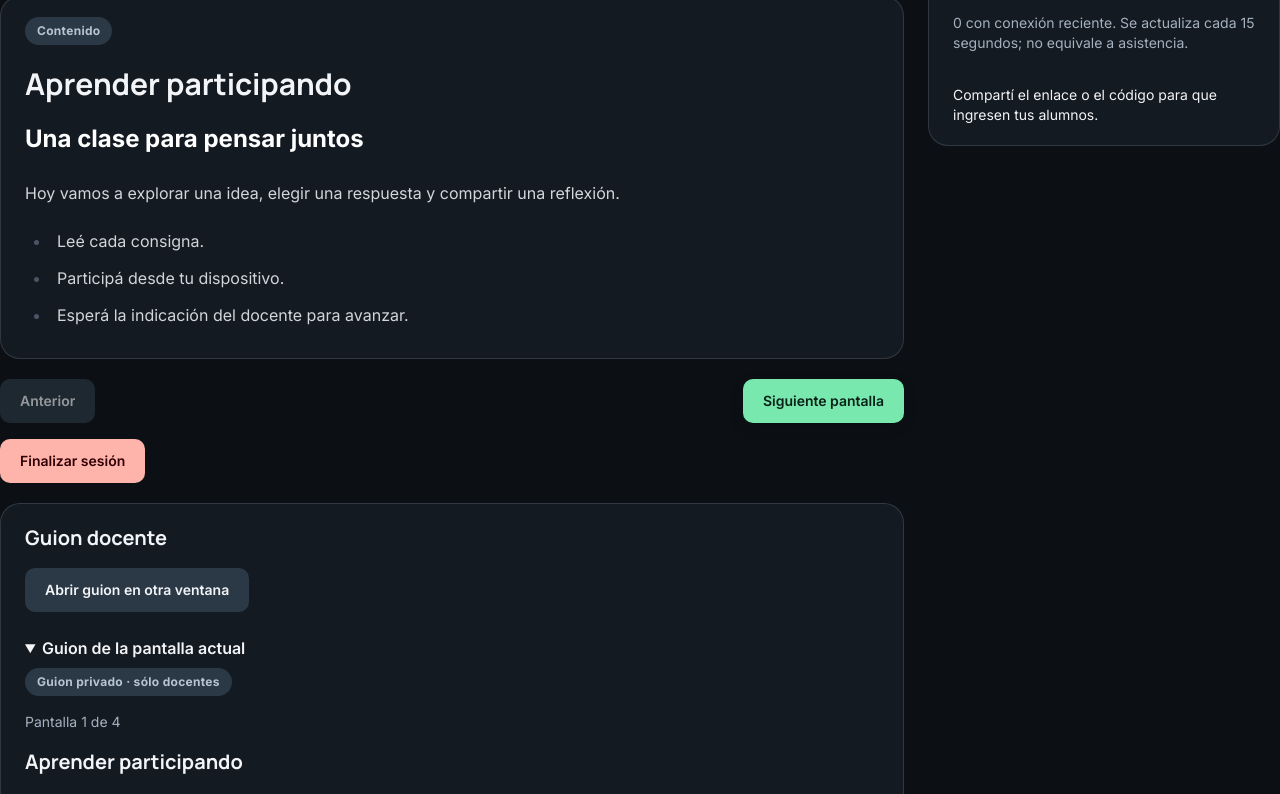
conserva HTTP y SSE en la sala real al reutilizar su presentación
This screenshot has width=1280, height=794.
(page scrolled)
Click the button "Siguiente pantalla" at point(823, 401), box [743,379,904,423]
(page scrolled)
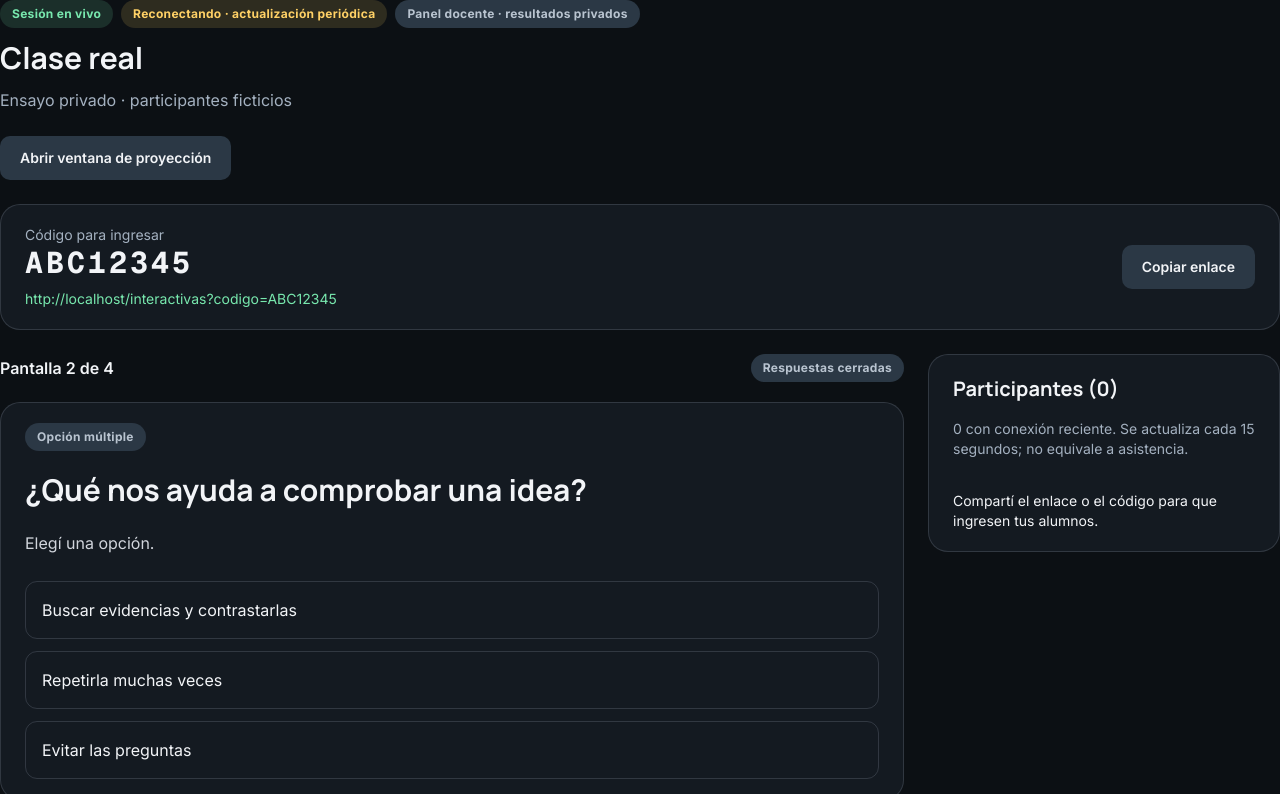
Check: the button "Copiar enlace" is shown, box [1122,245,1255,289]
Check: the heading "¿Qué nos ayuda a comprobar una idea?" is shown, box [25,469,587,510]
